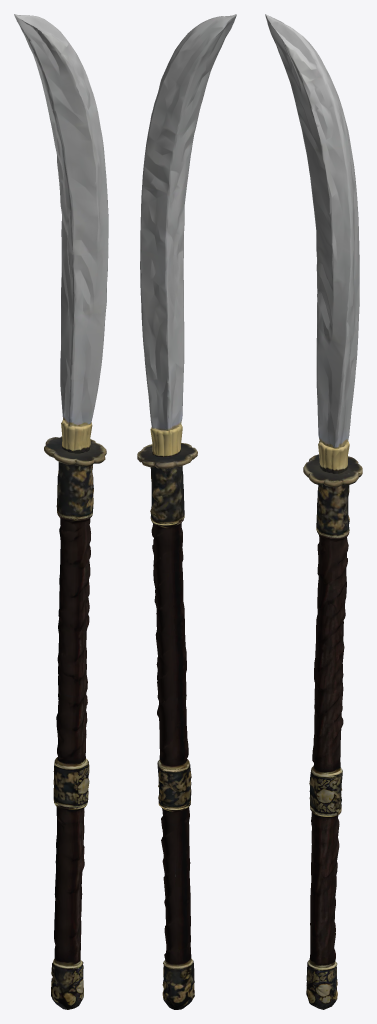
Rendered from naginata.glb.
3 views of the same model, side by side, from view 1: azimuth 30°, elevation 25°; view 2: azimuth 150°, elevation 25°; view 3: azimuth 330°, elevation 25° (orthographic). The views are drawn at different scales.
Visible parts, largest first — view 1: _MeshInstance3D_162; view 2: _MeshInstance3D_162; view 3: _MeshInstance3D_162.
Part boxes in pixels (x1,y1,x2,y2): _MeshInstance3D_162: (14,14,108,1009); _MeshInstance3D_162: (137,14,236,1009); _MeshInstance3D_162: (265,14,362,1009).
Size of the model in its own units: 0.1366 by 1.43 by 0.0828.
1 material, 1 textured.
